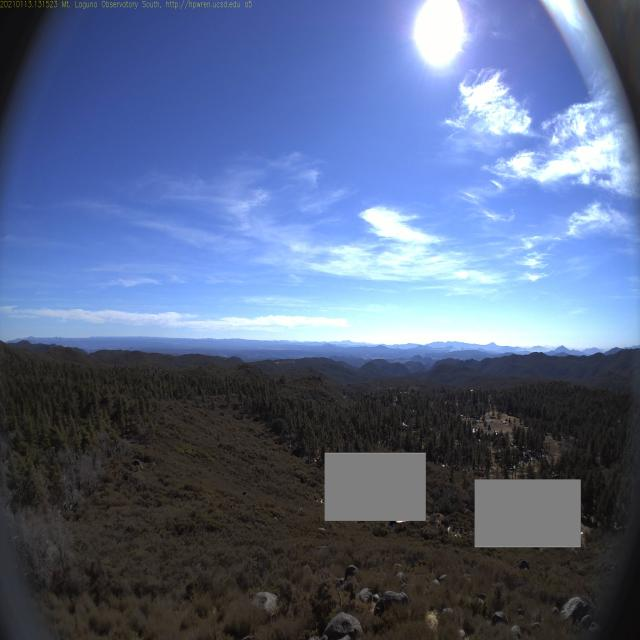smoke: (448, 343, 473, 354)
